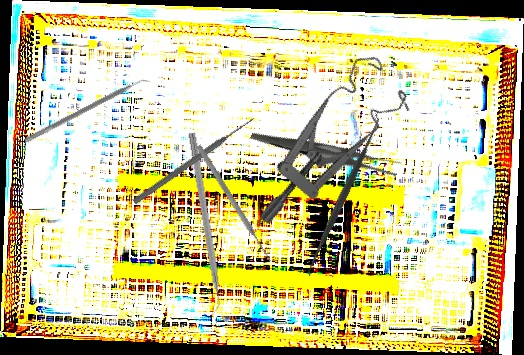Chopper: (177, 132, 226, 320)
Dressing Forceps: (249, 88, 404, 214)
Pusher: (131, 114, 257, 207), (194, 143, 275, 265)
Spatula Surgical: (297, 111, 390, 279), (23, 72, 153, 149)
Speculum: (215, 45, 431, 228)
